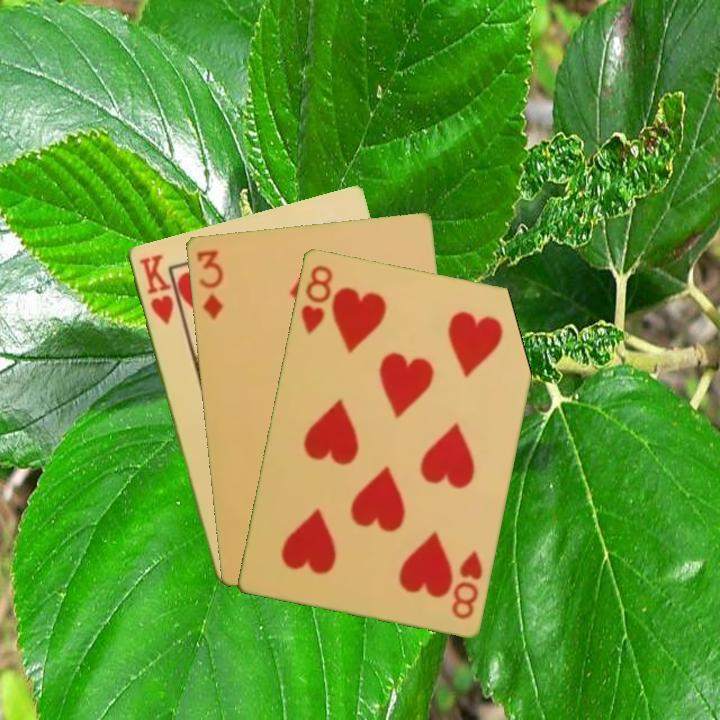3d: (192, 246, 226, 322)
8h: (297, 261, 335, 338), (448, 546, 485, 622)
Kh: (135, 250, 176, 328)
